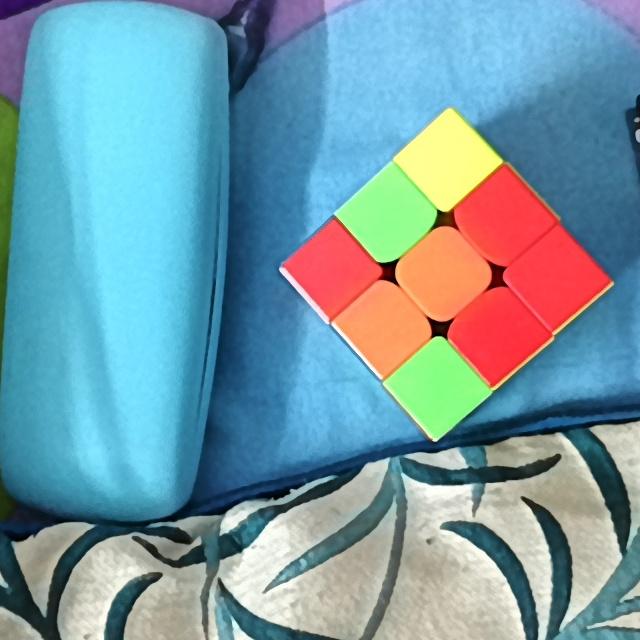tile: (535, 252, 586, 313), (416, 246, 469, 302), (363, 187, 416, 241), (478, 194, 531, 248), (408, 361, 465, 409), (361, 299, 411, 353), (476, 305, 527, 357), (420, 135, 473, 185), (306, 242, 354, 296)
